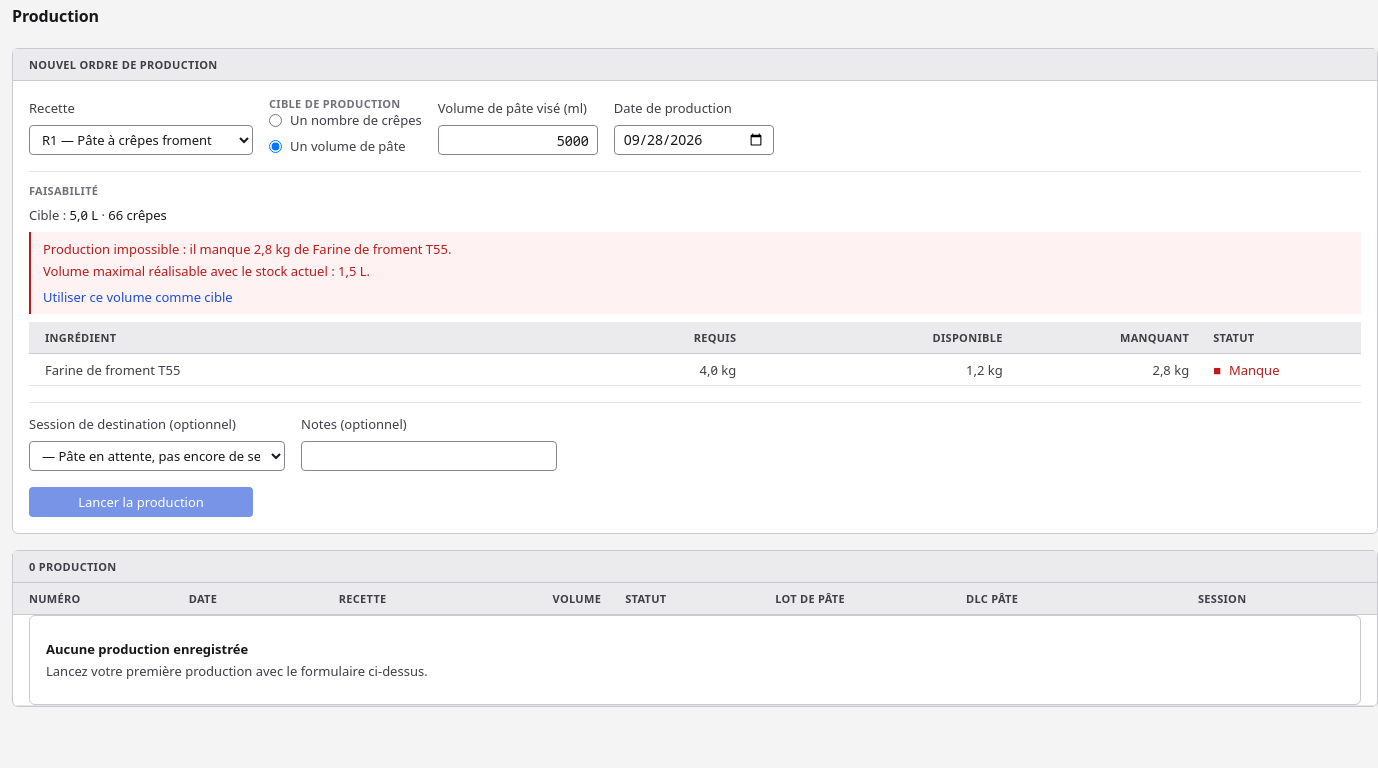
Test case: Production — le contrôle de faisabilité en direct › « Utiliser ce volume comme cible » reprend le nombre du SERVEUR, sans arithmétique locale
Expected: the dropdown labelled "Recette" is shown, [29,125,253,155]
Expected: the table that starts with "Ingrédient" is shown, [29,322,1361,386]
Click the button "Utiliser ce volume comme cible". click: (138, 297)
box: [43,288,233,306]
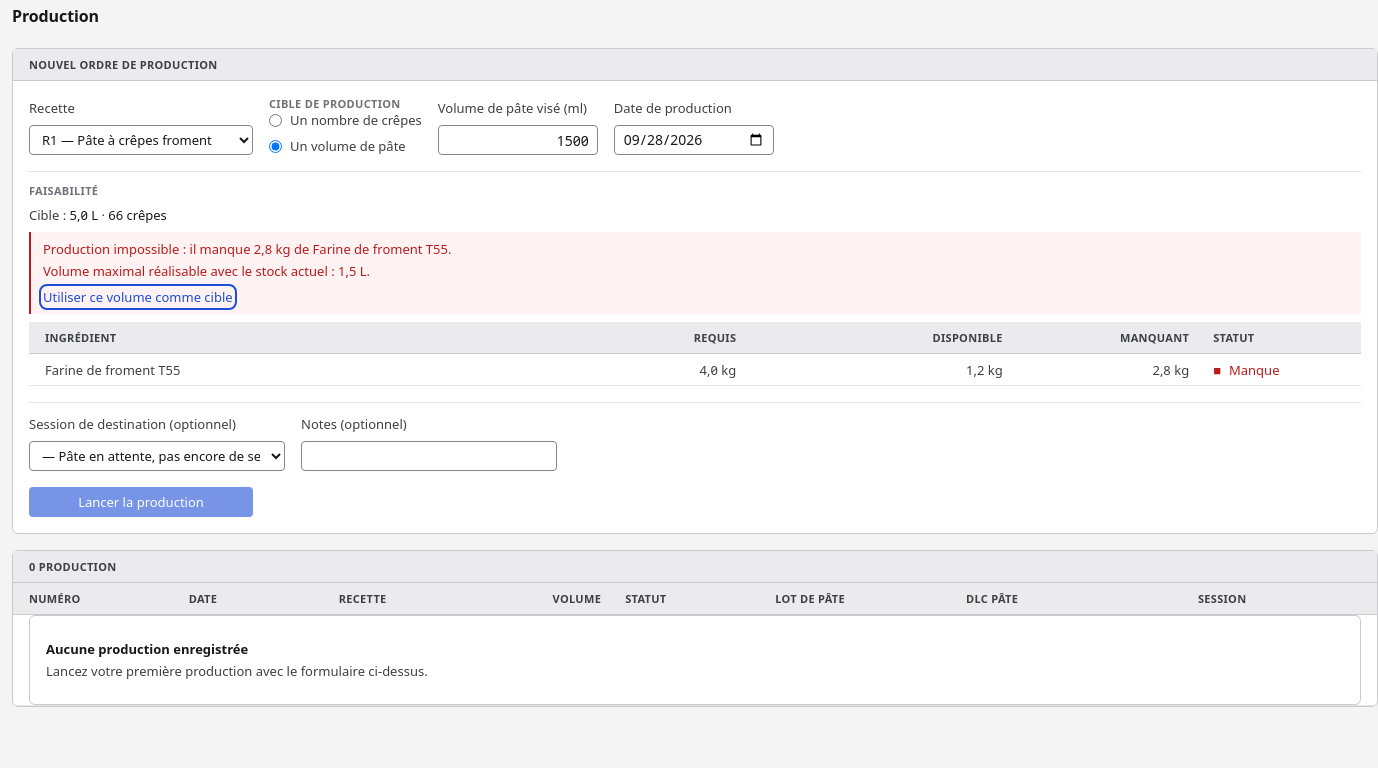
Expected: the field labelled "Volume de pâte visé (ml)" holds "1500", [438,125,598,155]
